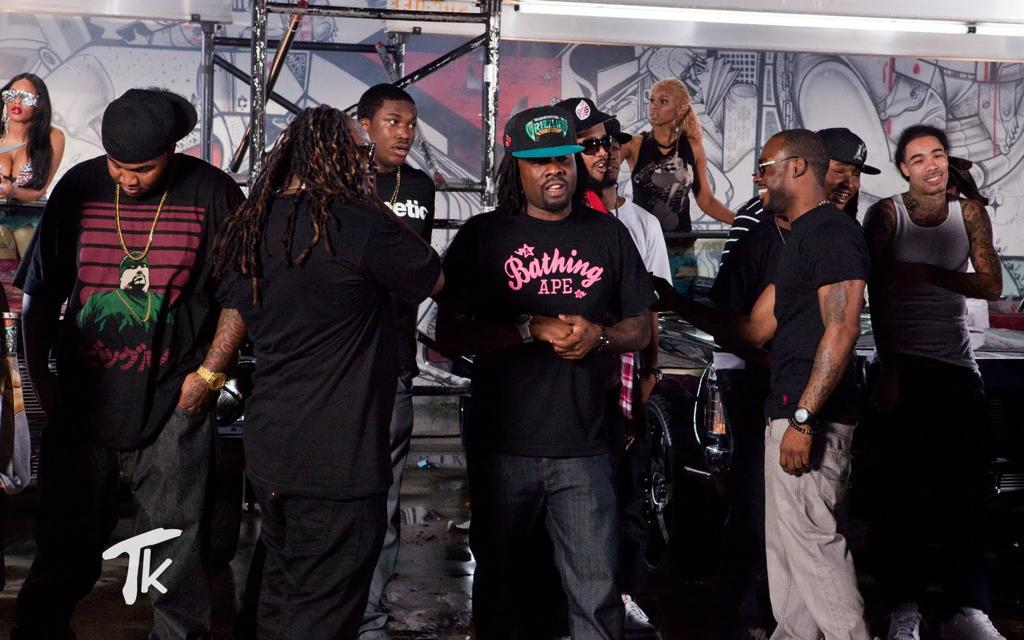face: (520, 145, 577, 207), (107, 148, 166, 197), (369, 108, 417, 165), (755, 151, 796, 210), (821, 155, 862, 211), (906, 144, 949, 193), (572, 125, 607, 181), (593, 134, 621, 184), (6, 85, 38, 121), (649, 91, 679, 122)
